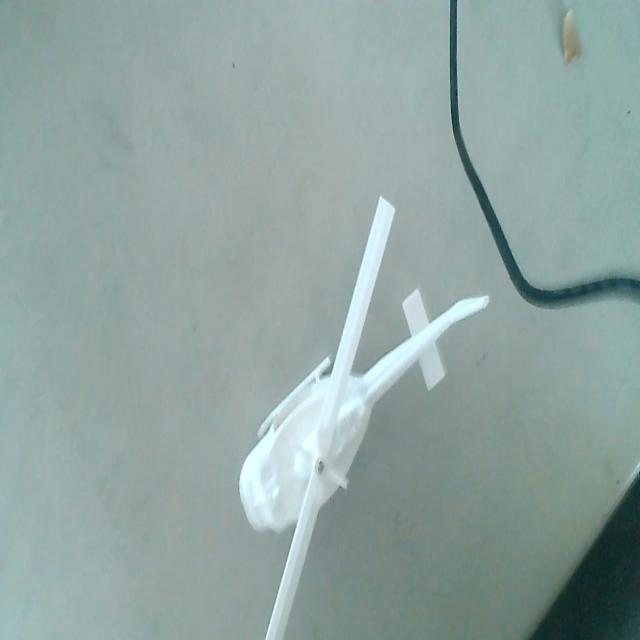Helicopter: (232, 186, 490, 640)
